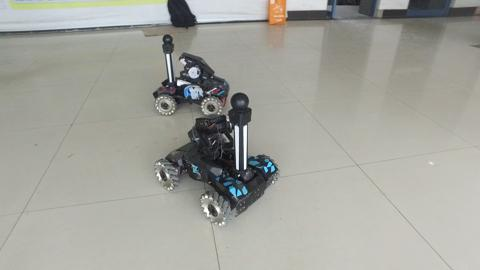chariot: (155, 91, 281, 226), (153, 35, 228, 117)
